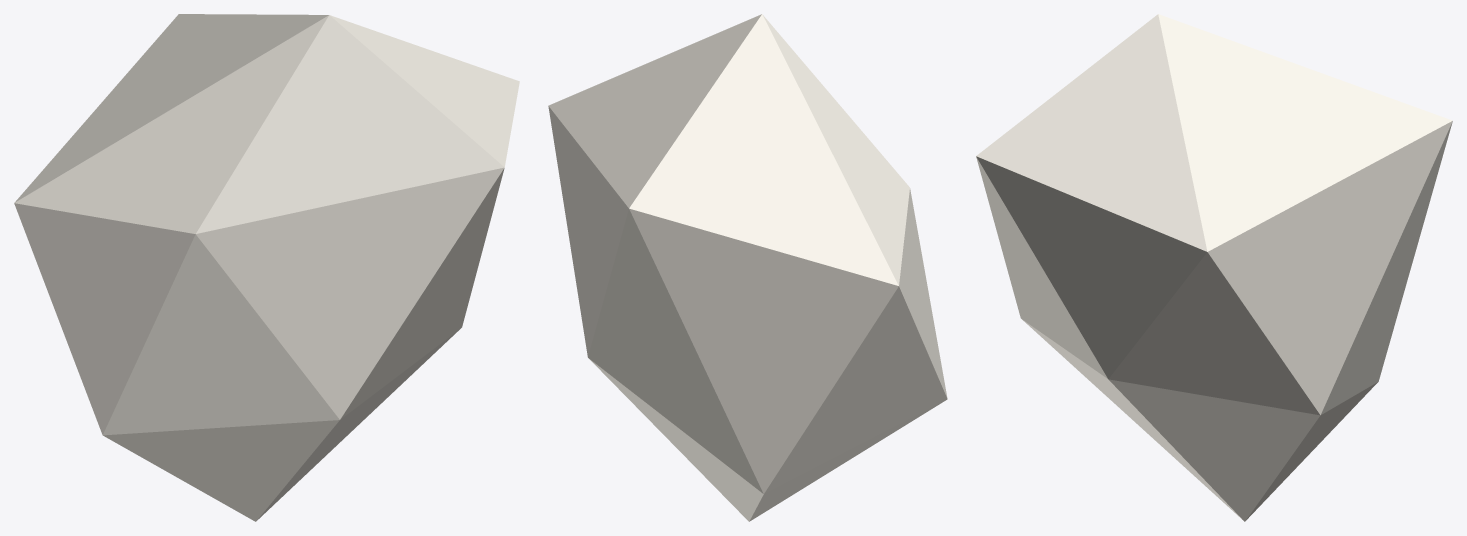
The model's file is Basura_Papel_HojaArrugada.fbx.
3 views of the same model, side by side, from view 1: azimuth 30°, elevation 25°; view 2: azimuth 150°, elevation 25°; view 3: azimuth 270°, elevation 25° (orthographic). The views are drawn at different scales.
Parts seen in each view (by area): view 1: Basura_Papel_HojaArrugada; view 2: Basura_Papel_HojaArrugada; view 3: Basura_Papel_HojaArrugada.
Boxes of the visible parts, x1,y1,x2,y2 form: Basura_Papel_HojaArrugada: [14, 14, 519, 521]; Basura_Papel_HojaArrugada: [548, 14, 947, 521]; Basura_Papel_HojaArrugada: [976, 14, 1452, 521].
Size of the model in its own units: 0.5722 by 0.6463 by 0.5351.
Materials: 1 (1 with a texture image).
